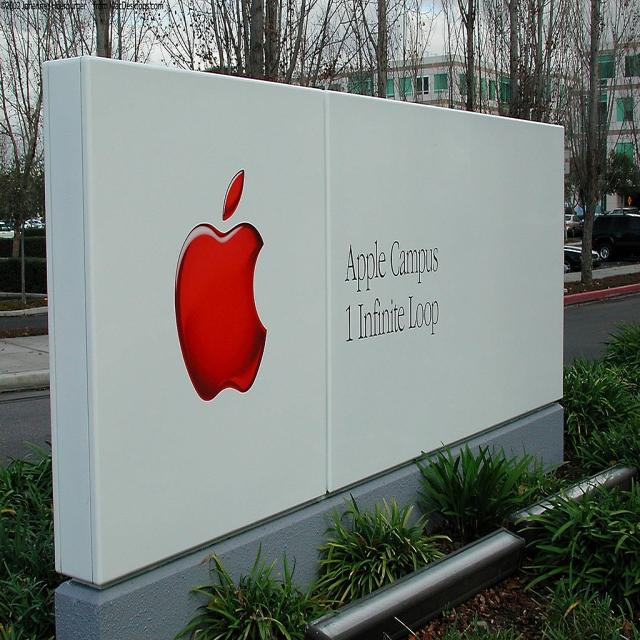apple: (169, 161, 274, 412)
